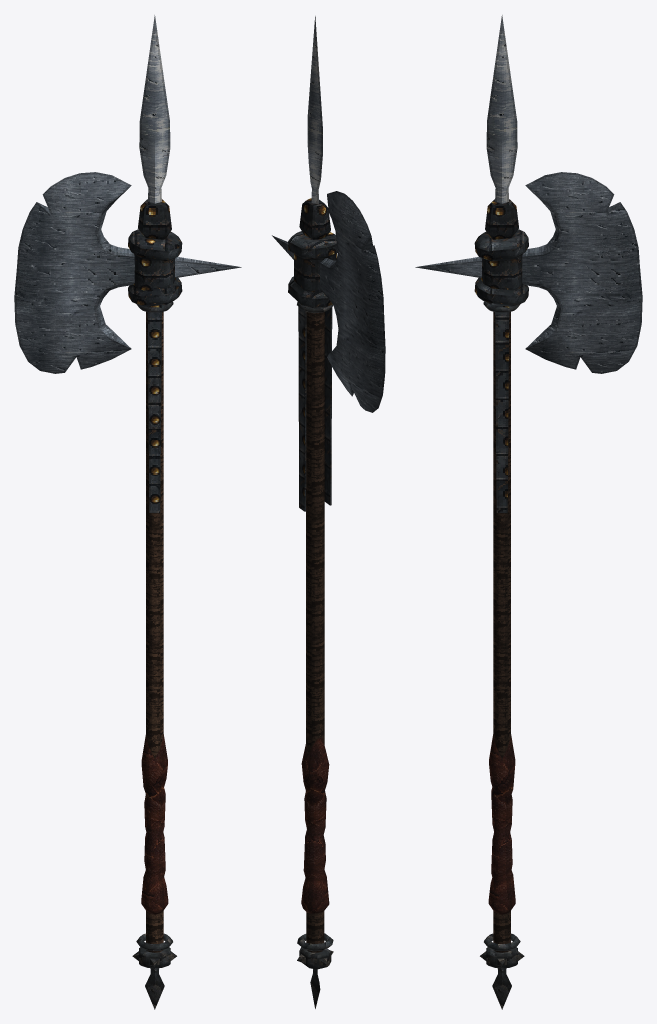
File: gravewarden_halberd.glb
3 renders of one model, left to right at view 1: azimuth 90°, elevation 25°; view 2: azimuth 210°, elevation 25°; view 3: azimuth 270°, elevation 25°, orthographic.
Visible parts, largest first — view 1: gravewarden_halberd; view 2: gravewarden_halberd; view 3: gravewarden_halberd.
Boxes of the visible parts, x1=… form: gravewarden_halberd: x1=14, y1=15, x2=241, y2=1009; gravewarden_halberd: x1=272, y1=16, x2=385, y2=1008; gravewarden_halberd: x1=415, y1=15, x2=642, y2=1009.
Size of the model in its own units: 0.0589 by 1.38 by 0.2878.
1 material, 1 textured.
